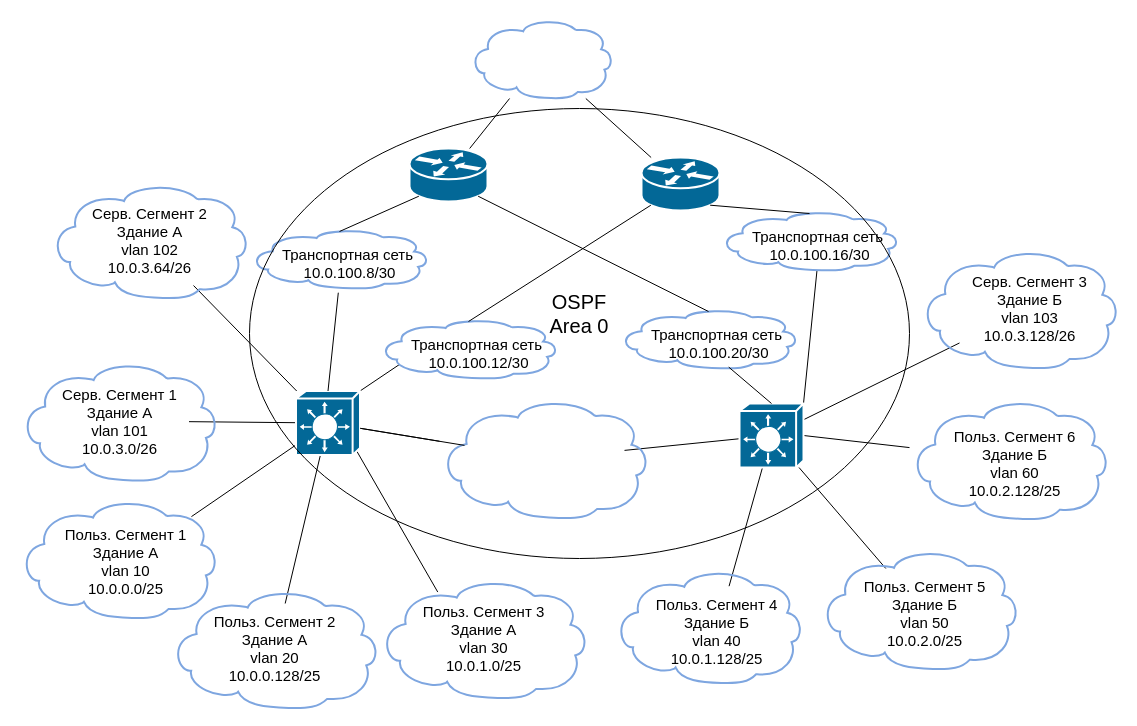
The diagram is 1137 pixels wide and 726 high, and some of its shapes have lost their labels. Here are the shapes that lost their labels. From the top down, the box of each, then its label:
(468, 17, 614, 99): Интернет
(438, 397, 650, 519): Транспортная сеть 10.0.100.0/30 10.0.100.4/30
